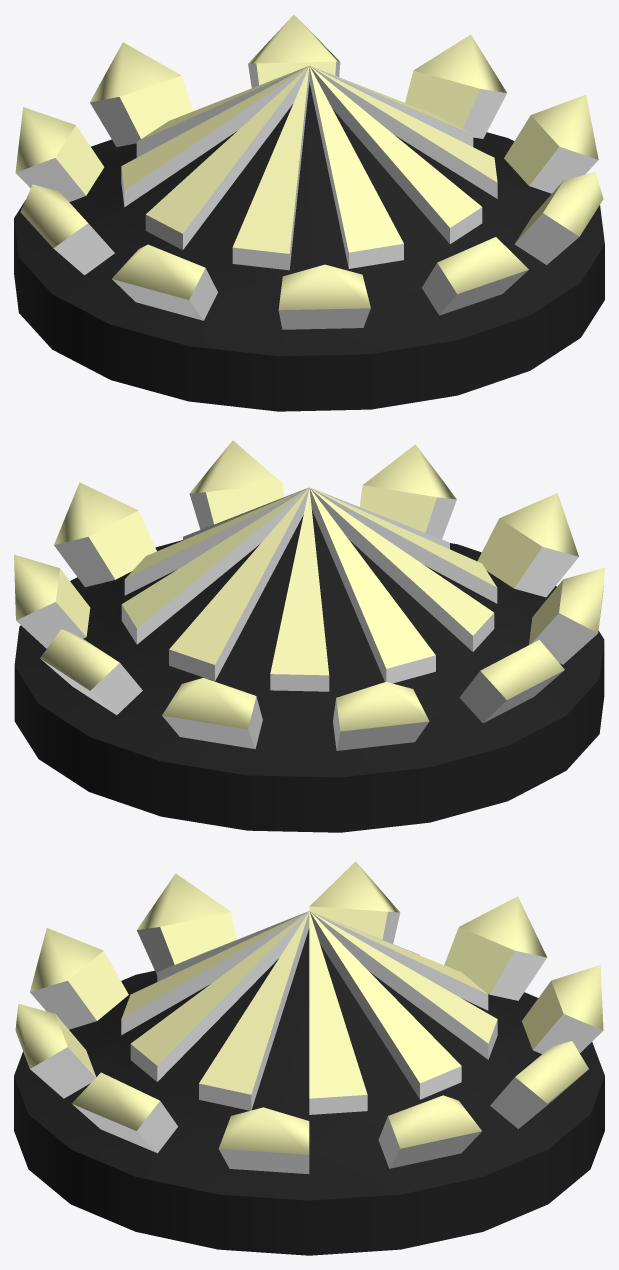
File: PowerUpPad.fbx
3 renders of one model, top to bottom at view 1: azimuth 30°, elevation 25°; view 2: azimuth 150°, elevation 25°; view 3: azimuth 270°, elevation 25°, orthographic.
Parts seen in each view (by area): view 1: pCylinder1; view 2: pCylinder1; view 3: pCylinder1.
Part boxes in pixels (left/top/right/bottom): pCylinder1: left=14, top=15, right=604, bottom=411; pCylinder1: left=14, top=440, right=604, bottom=832; pCylinder1: left=14, top=861, right=604, bottom=1255.
Size of the model in its own units: 4.97 by 2.04 by 4.97.
